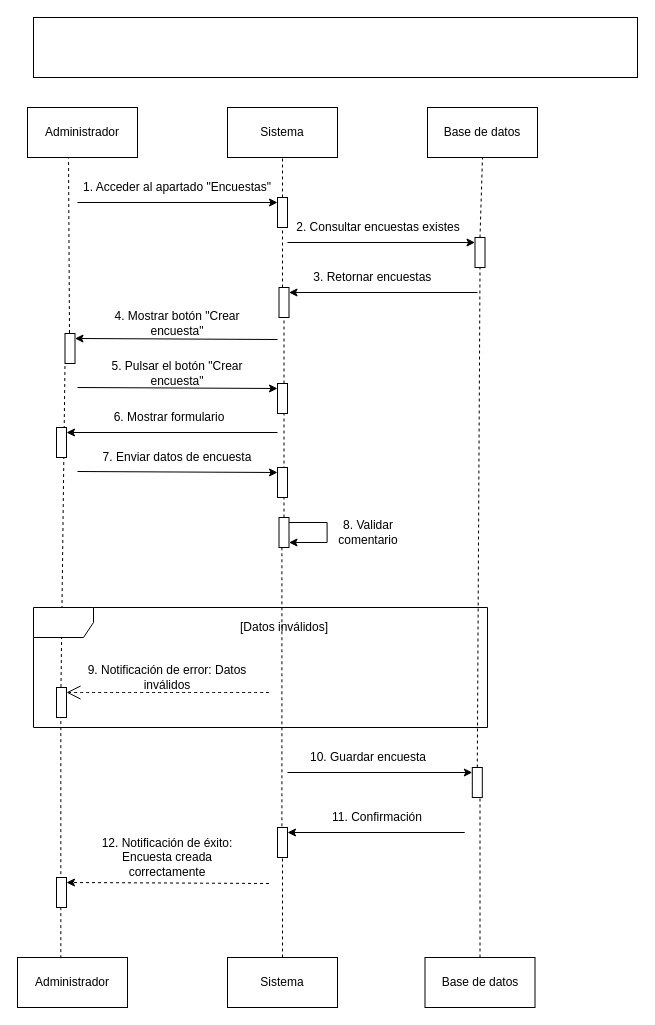
Image size: 655x1025. Some labels were removed from this diagram. The shapes that lost their labels are listed below. From the top down, each one's box as (x1, y1, x2, y2) in pixels, then its label:
(32, 16, 638, 78): CREAR ENCUESTA
(32, 606, 488, 728): alt
